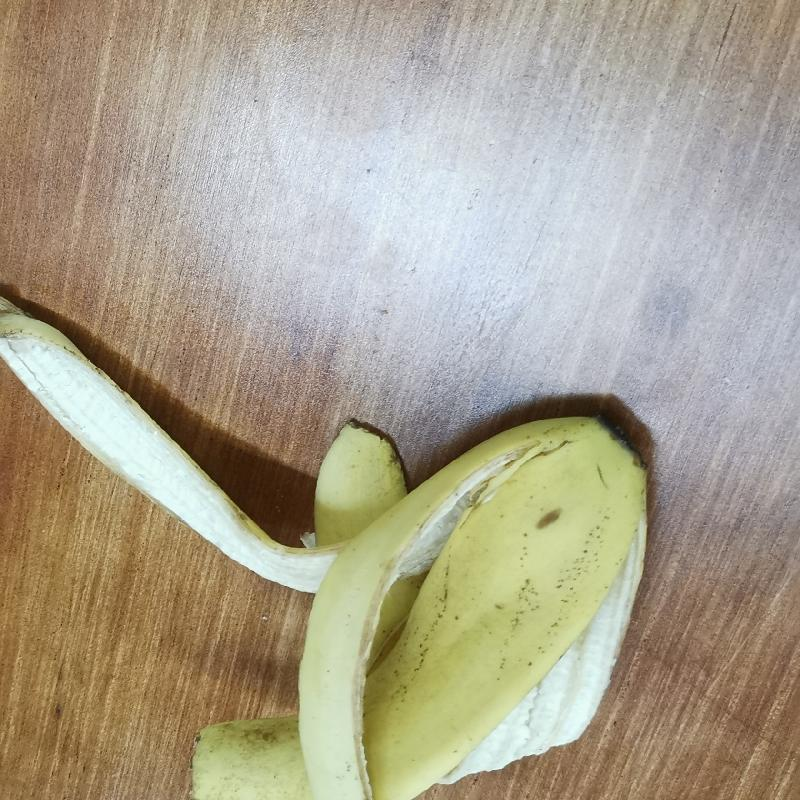bananas: (1, 275, 655, 800)
